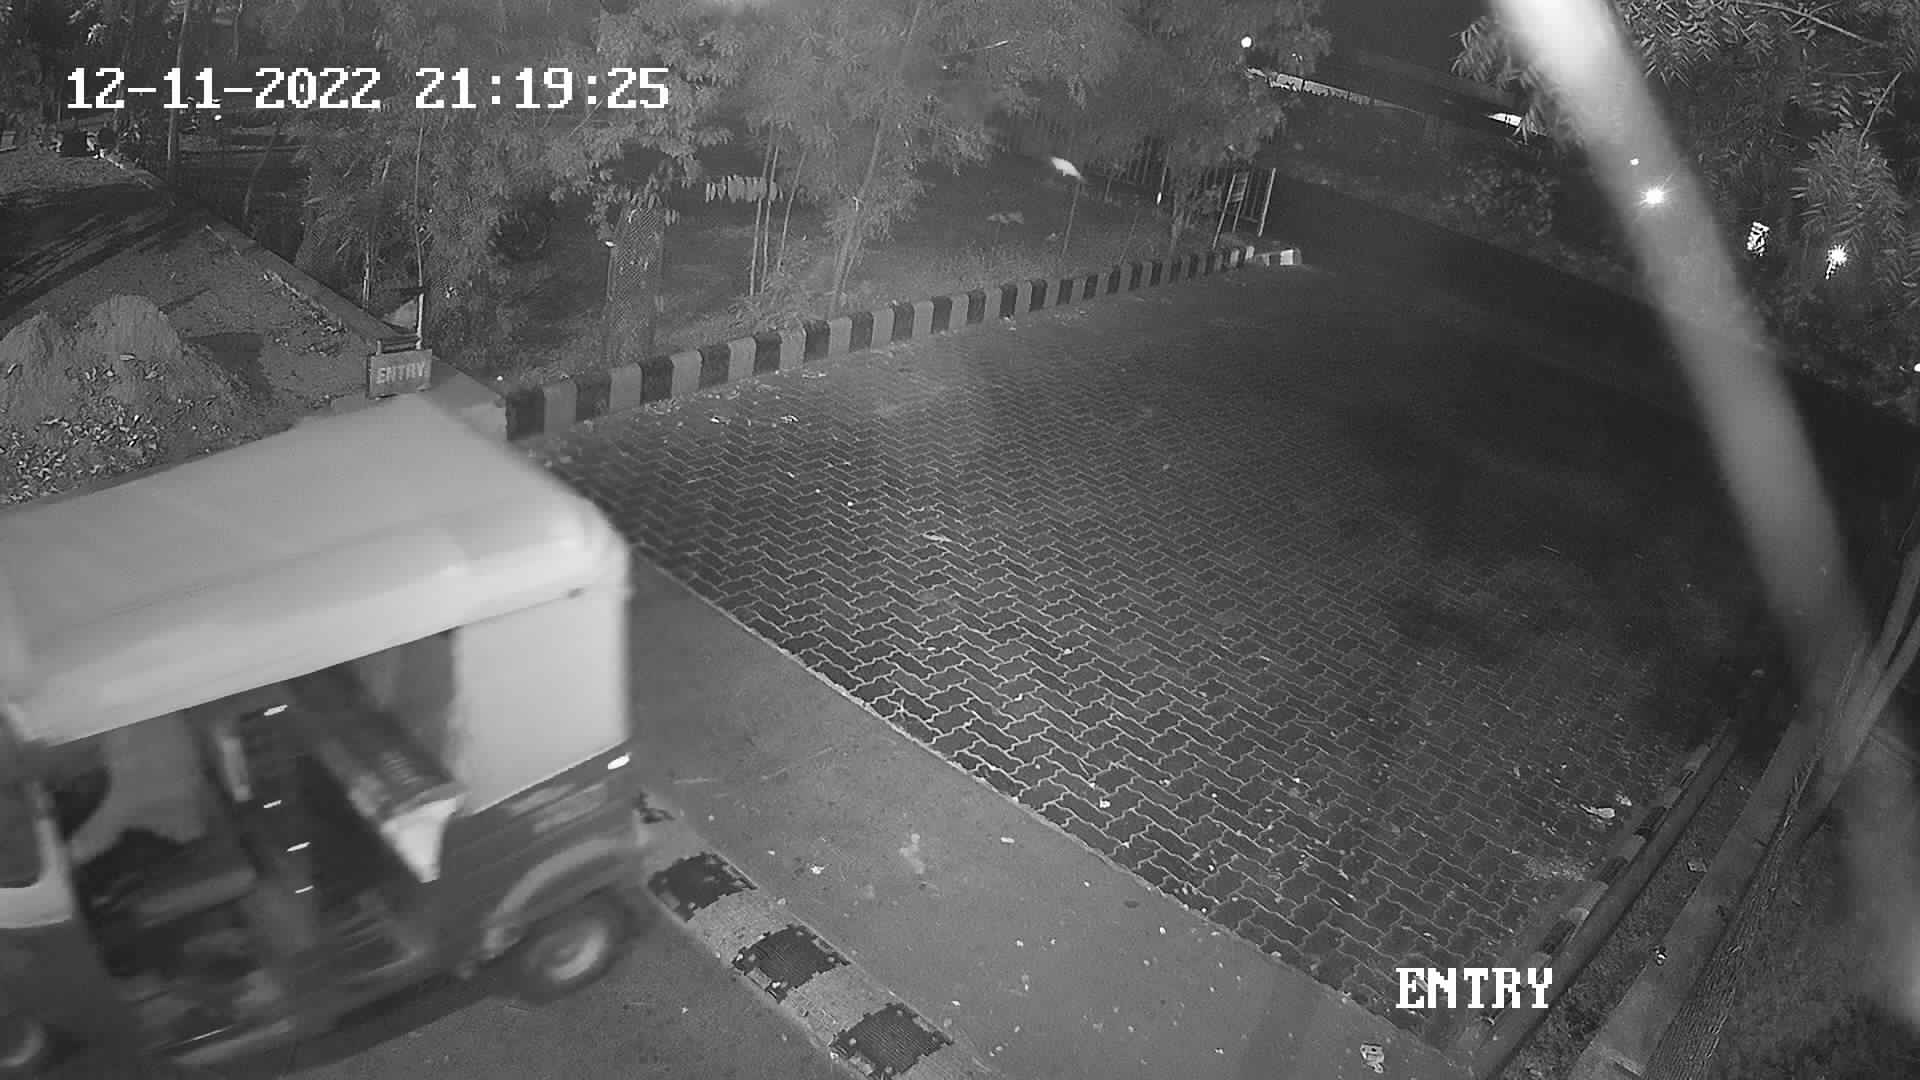Auto: (1, 348, 694, 1080)
